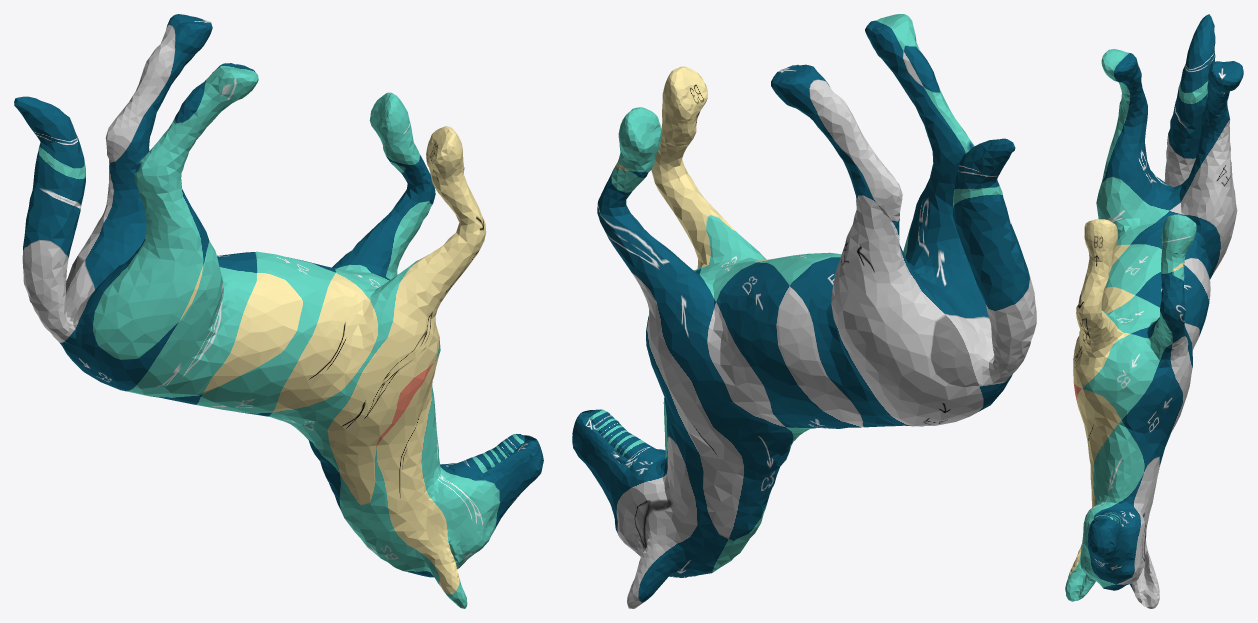
File: lion_02-horse_08.obj
The picture shows the model from 3 angles, left to right: view 1: azimuth 30°, elevation 25°; view 2: azimuth 150°, elevation 25°; view 3: azimuth 270°, elevation 25°; orthographic projection. The views are drawn at different scales.
Parts seen in each view (by area): view 1: lion_02-horse_08_export; view 2: lion_02-horse_08_export; view 3: lion_02-horse_08_export.
Part boxes in pixels (left/top/right/bottom): lion_02-horse_08_export: left=14, top=14, right=543, bottom=608; lion_02-horse_08_export: left=572, top=14, right=1036, bottom=608; lion_02-horse_08_export: left=1065, top=14, right=1243, bottom=608.
Bounding box in the file's own units: 0.8288 × 0.9724 × 0.3354.
